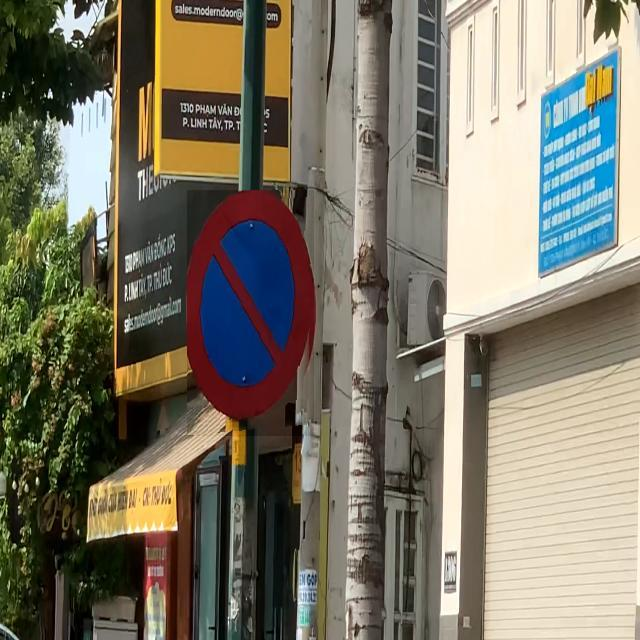P-131a: (187, 190, 314, 436)
